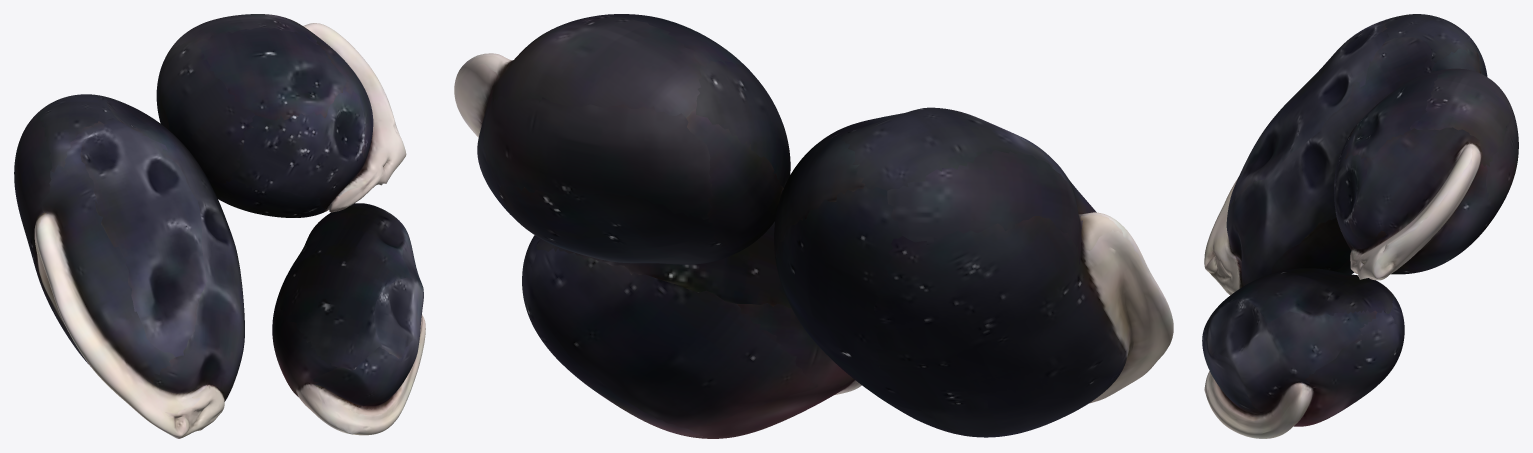
The model's file is tool-douzi.glb.
3 views of the same model, side by side, from view 1: azimuth 30°, elevation 25°; view 2: azimuth 150°, elevation 25°; view 3: azimuth 270°, elevation 25° (orthographic). The views are drawn at different scales.
Parts seen in each view (by area): view 1: node_0; view 2: node_0; view 3: node_0.
Part boxes in pixels (x1=…): node_0: x1=14, y1=14, x2=425, y2=438; node_0: x1=454, y1=14, x2=1173, y2=438; node_0: x1=1202, y1=14, x2=1518, y2=438.
Size of the model in its own units: 1.03 by 0.8382 by 0.7259.
1 material, 1 textured.
